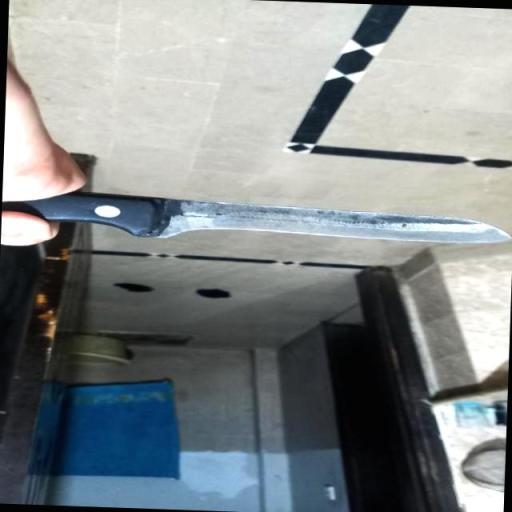knife: (1, 179, 511, 250)
